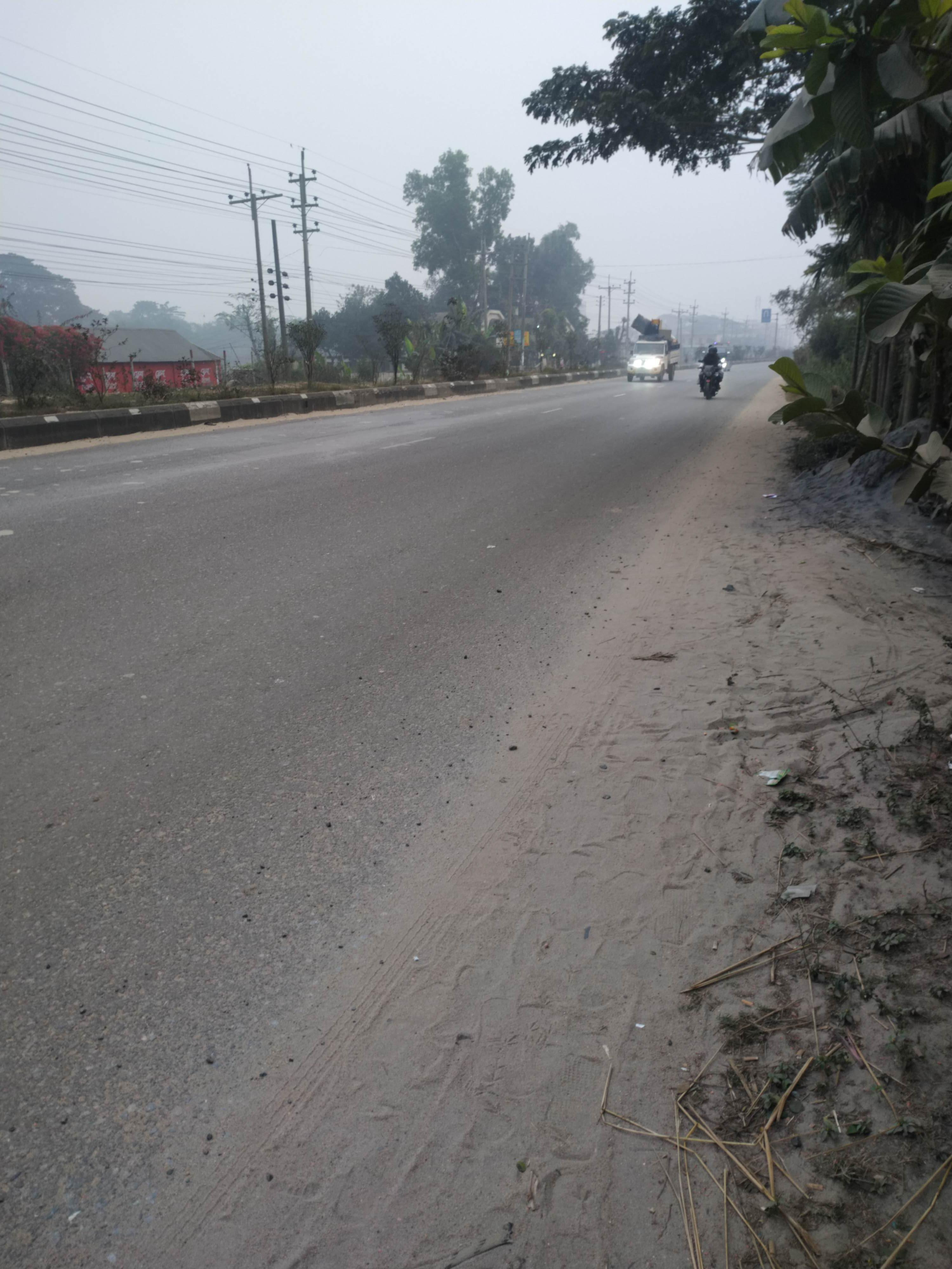Bike: (689, 337, 739, 418)
Truck: (616, 303, 686, 404)
